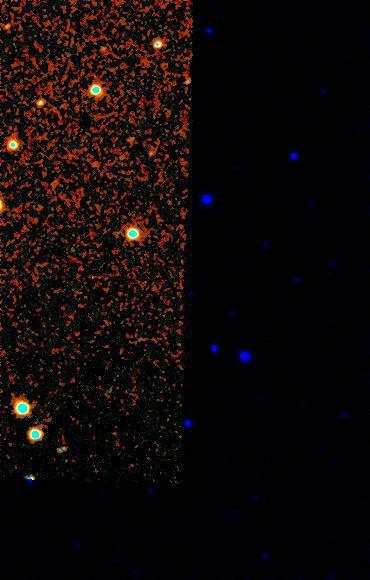star: (84, 33, 114, 63)
